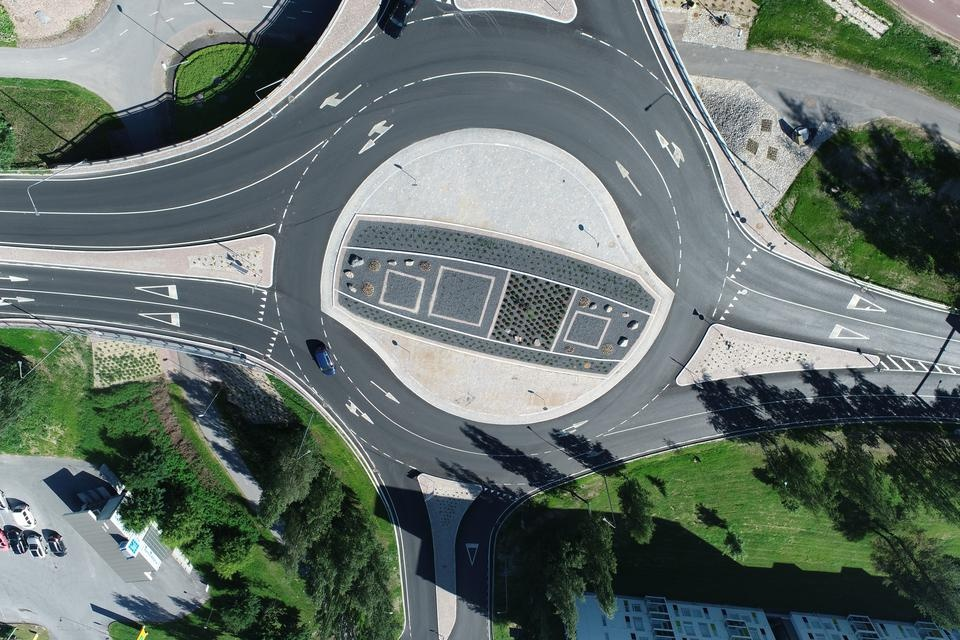roundabout: (255, 0, 766, 518)
